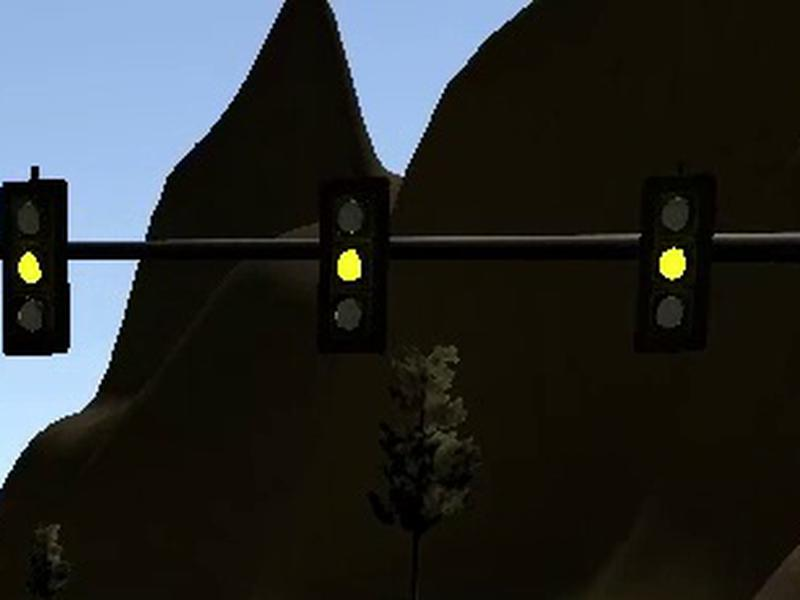Yellow: (632, 172, 715, 354), (316, 176, 390, 355), (1, 179, 70, 356)
